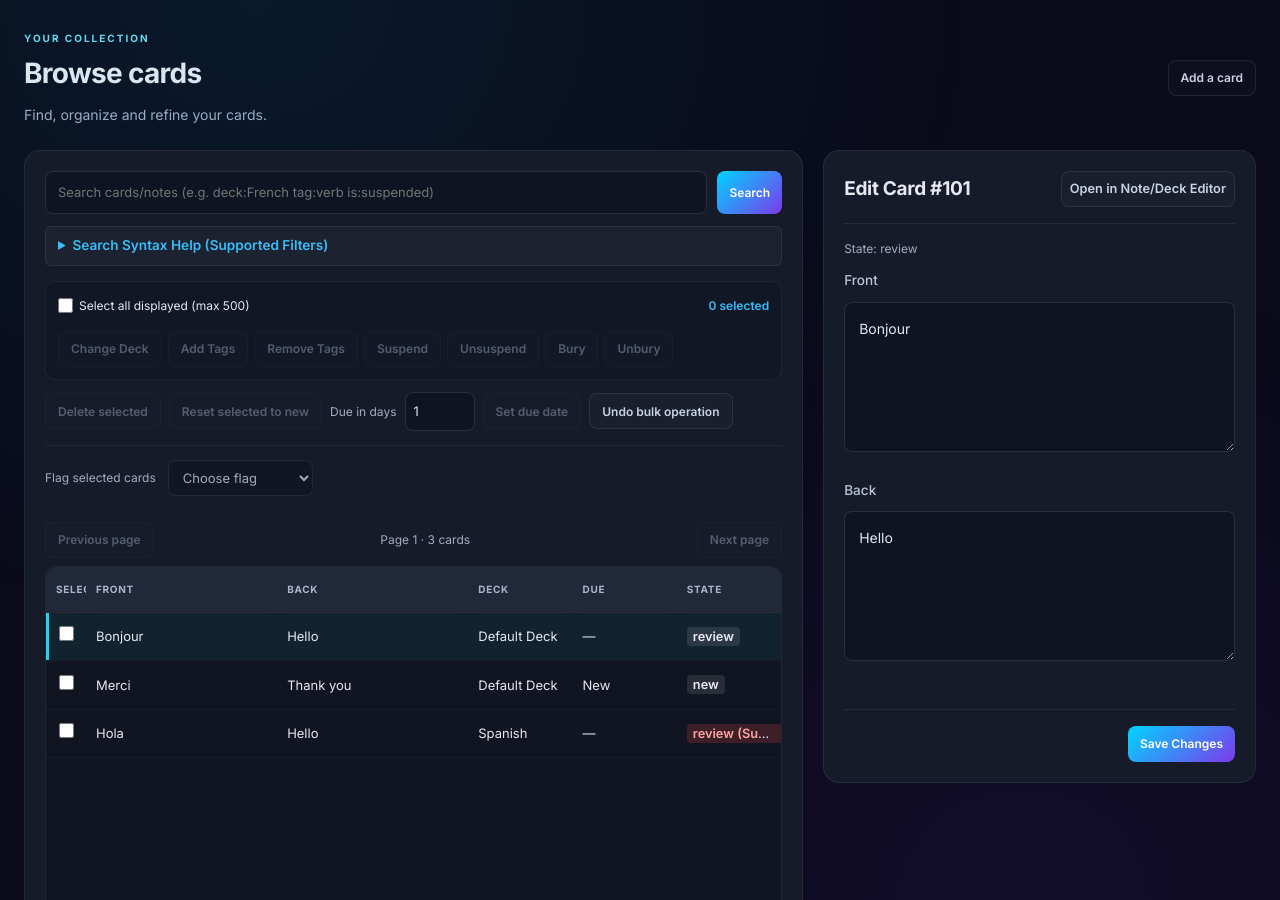
BrowsePage › sends selected card IDs and expected_version payload on bulk action
This screenshot has width=1280, height=900.
Click the checkbox named "Select card 101" at (66, 634), box [58,626,74,641]
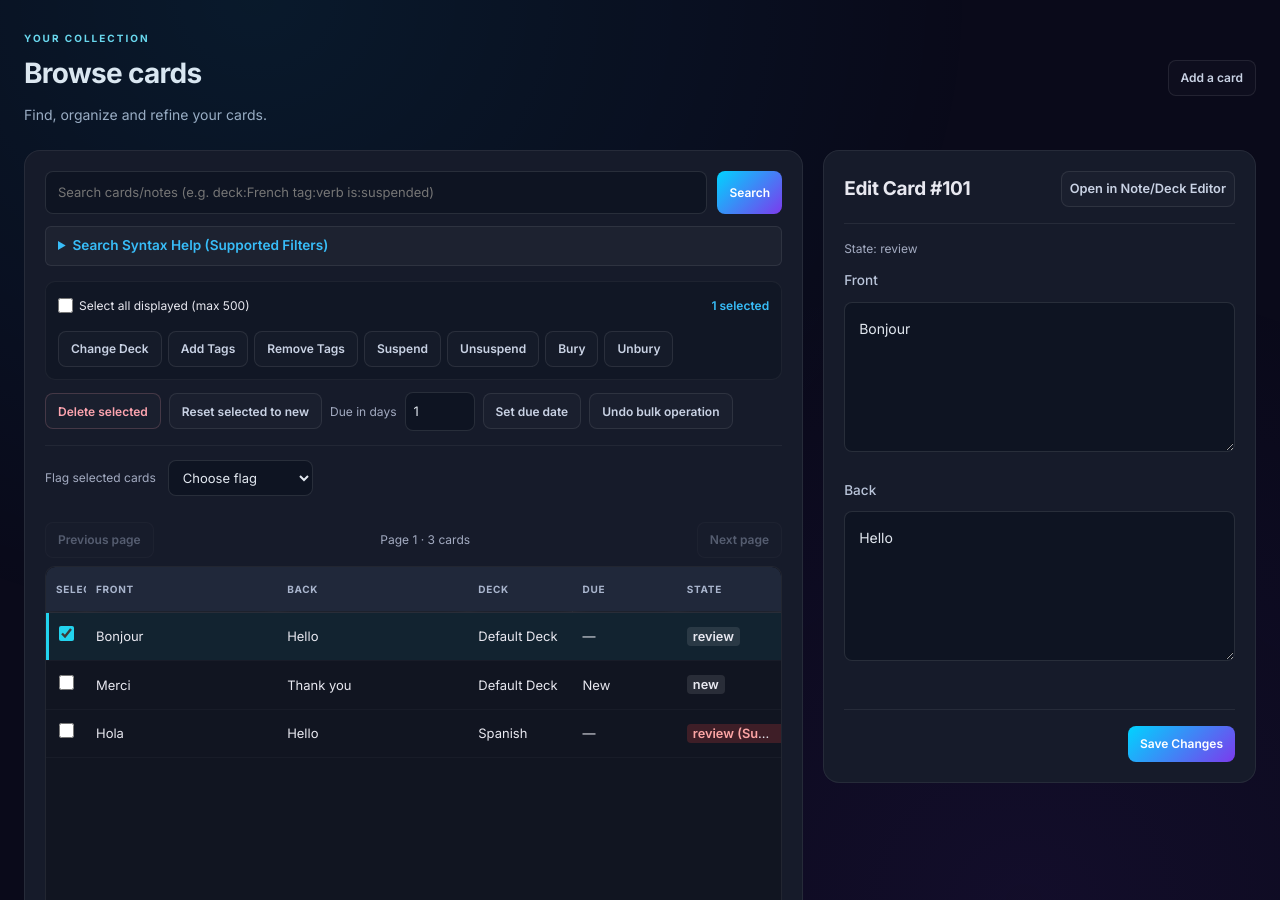
Click the checkbox named "Select card 102" at (66, 682), box [58,674,74,690]
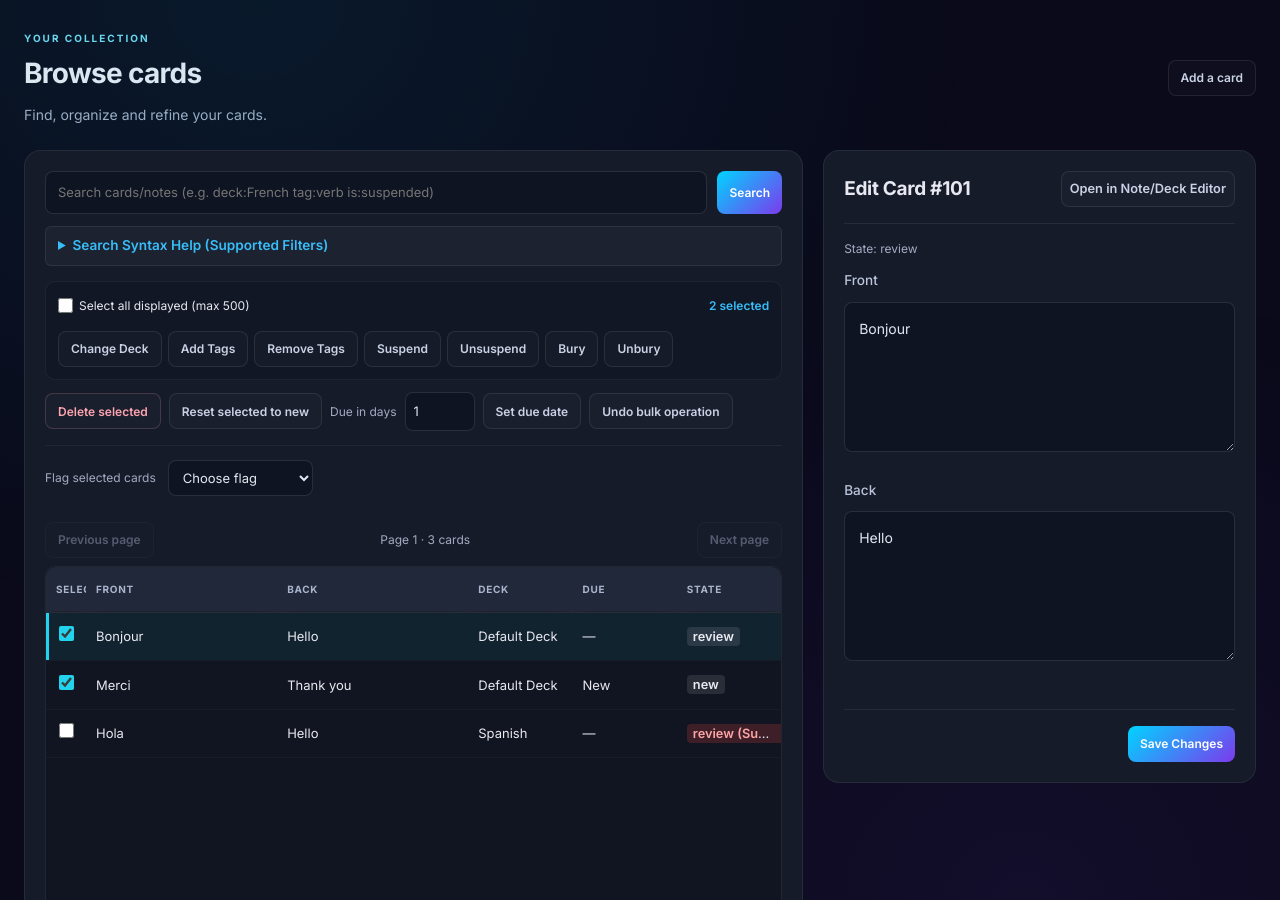
Check: the text with test id "selection-count" reads "2 selected", box [709,296,769,315]
Click the button "Suspend" at (402, 349), box [364,331,441,367]
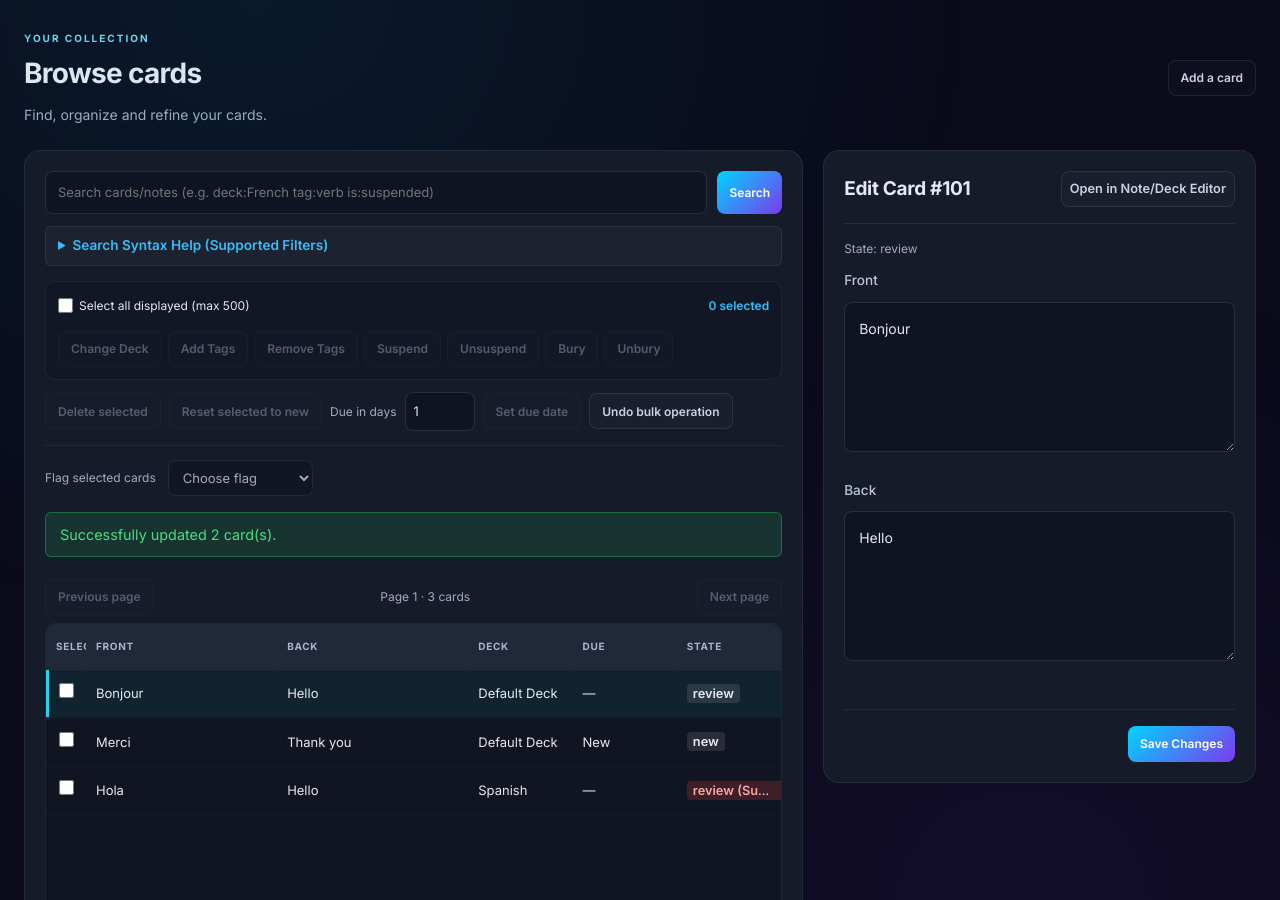
Check: the text "Successfully updated 2 card(s)." is shown, box [45,512,782,557]
